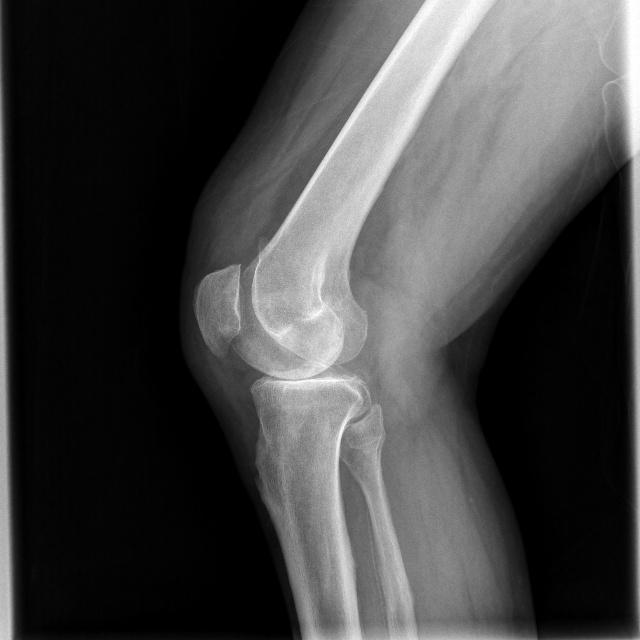Knee: (188, 260, 372, 456)
